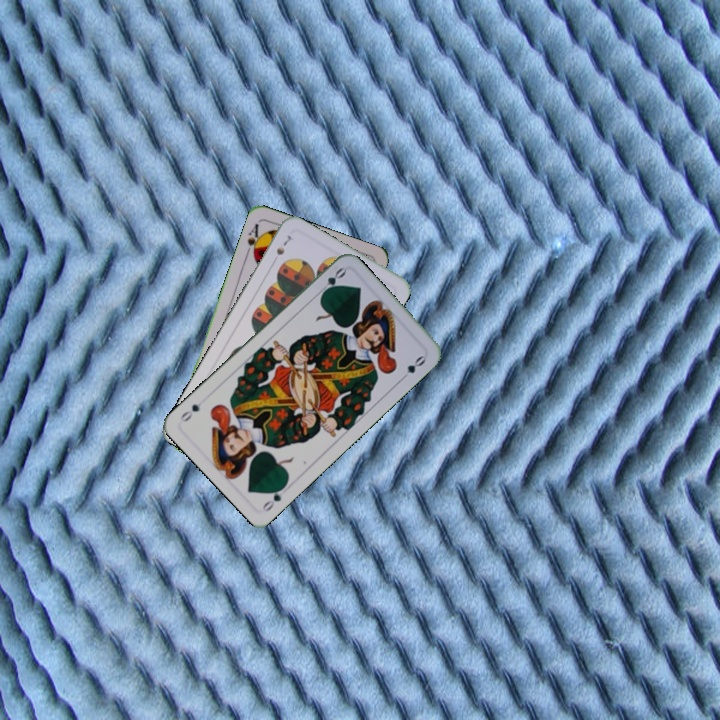GO: (314, 264, 348, 299), (258, 479, 289, 514)
S7: (272, 231, 294, 258)
SA: (242, 219, 265, 260)
